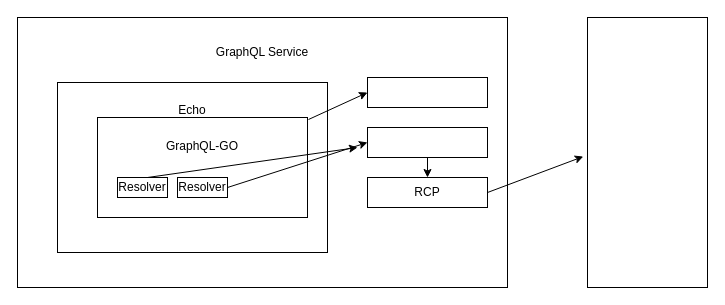
Some shapes in this 725 by 305 pixel diagram are drawn without their labels. The shapes that lost their labels are listed below. From the top down, each one's centre as x and y in pixels, then its label:
(x=427, y=92): schema
(x=427, y=142): data service
(x=647, y=152): Upstream Service (dependenciesClient)
